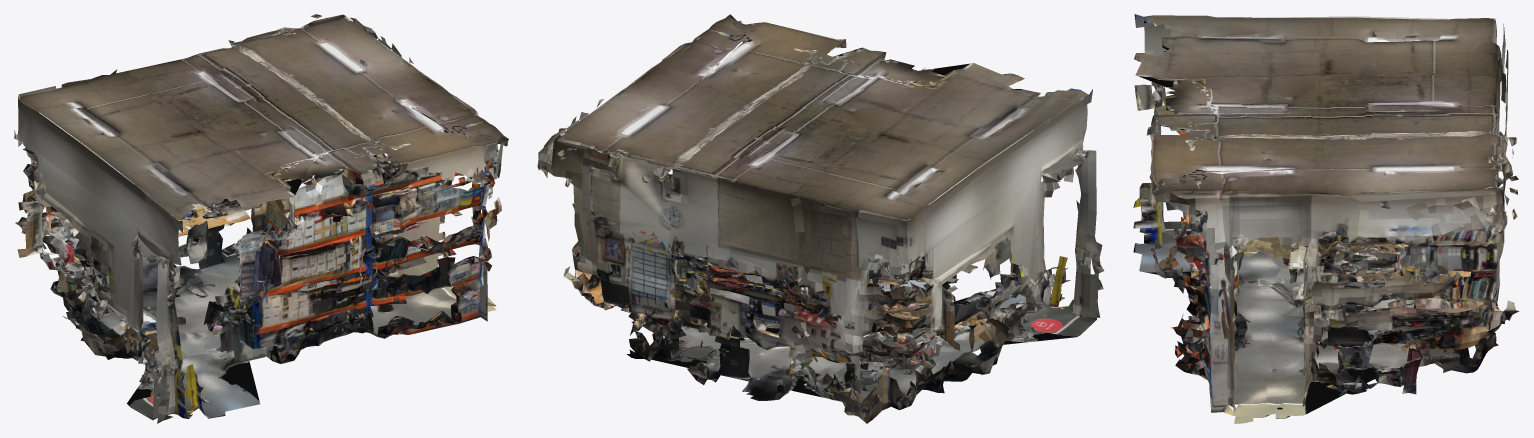
3 renders of one model, left to right at view 1: azimuth 30°, elevation 25°; view 2: azimuth 150°, elevation 25°; view 3: azimuth 270°, elevation 25°, orthographic. The views are drawn at different scales.
Visible parts, largest first — view 1: Mg_02b-IM; view 2: Mg_02b-IM; view 3: Mg_02b-IM.
Part boxes in pixels (x1,y1,x2,y2): Mg_02b-IM: (14,14,508,423); Mg_02b-IM: (537,14,1104,423); Mg_02b-IM: (1133,14,1519,423).
Bounding box in the file's own units: 626 × 332 × 517.
1 material, 1 textured.
